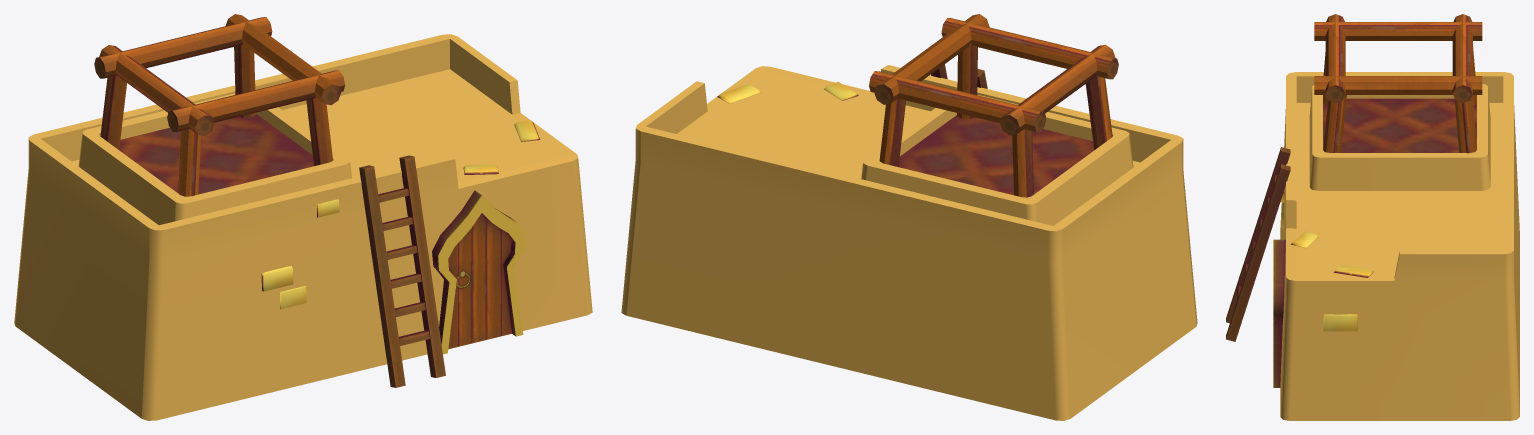
The model's file is arabian_house_half.fbx.
3 renders of one model, left to right at view 1: azimuth 30°, elevation 25°; view 2: azimuth 150°, elevation 25°; view 3: azimuth 270°, elevation 25°, orthographic. The views are drawn at different scales.
Visible parts, largest first — view 1: arabian_house_half; view 2: arabian_house_half; view 3: arabian_house_half.
Part boxes in pixels (box(x1,y1,x2,y2)): arabian_house_half: box(14, 14, 592, 420); arabian_house_half: box(621, 14, 1197, 420); arabian_house_half: box(1226, 14, 1519, 420).
Bounding box in the file's own units: 4.46 × 2.6 × 2.89.
